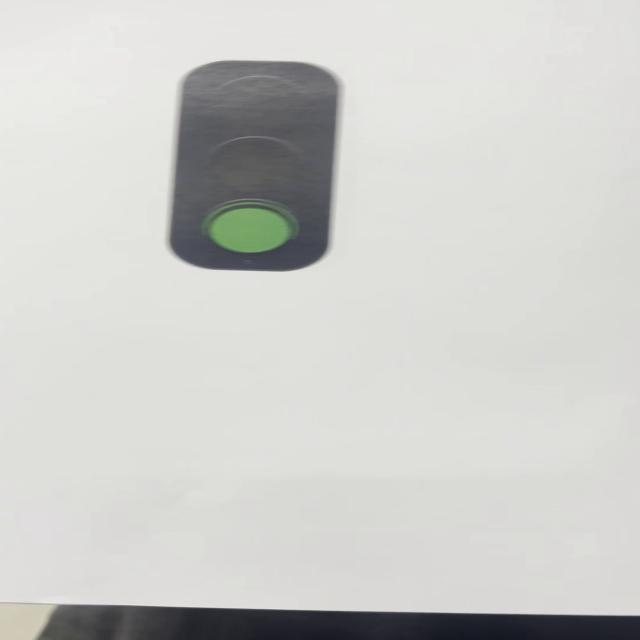green: (164, 59, 355, 273)
